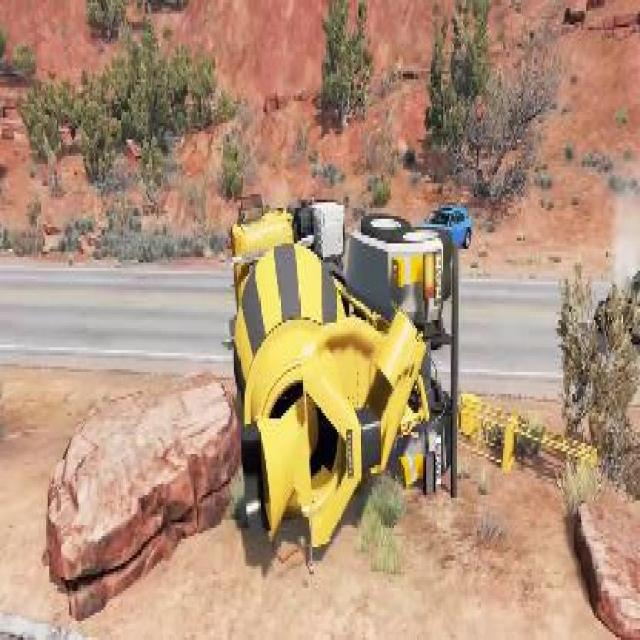accident: (224, 169, 462, 569)
